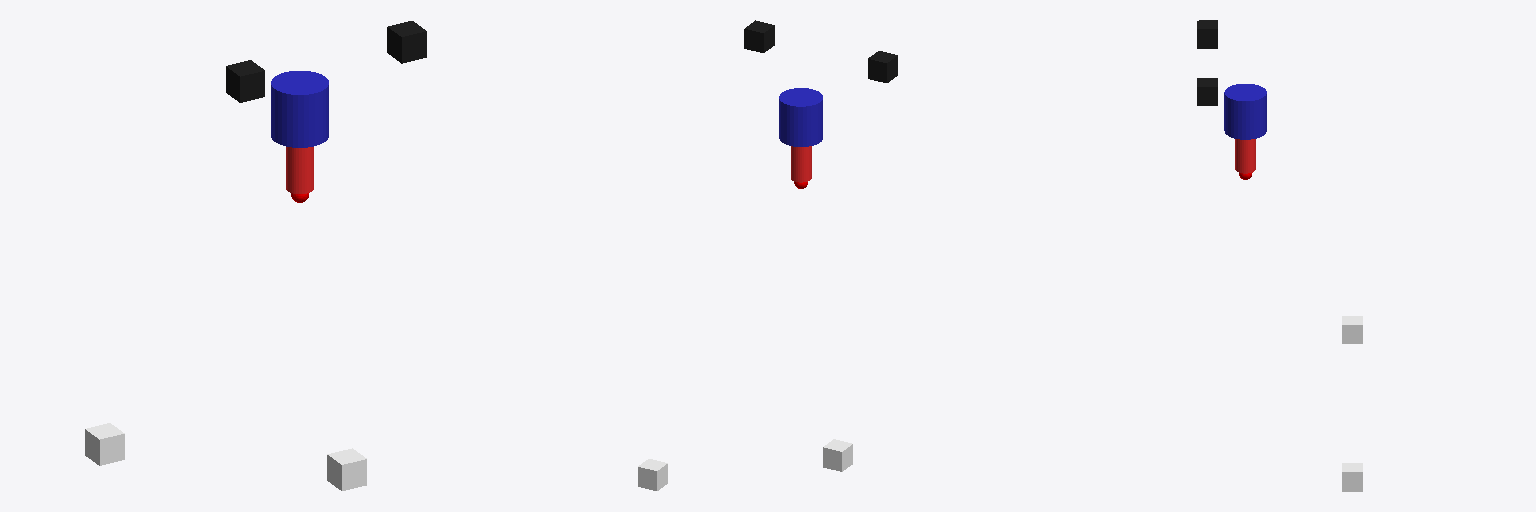
--- What the picture shows (computed from the rendered views, not written in the file) ---
The picture shows the robot from 3 angles, left to right: view 1: azimuth 30°, elevation 25°; view 2: azimuth 150°, elevation 25°; view 3: azimuth 270°, elevation 25°; orthographic projection.
Robot: Arm_Urdf — 18 links, 17 joints (6 revolute, 1 prismatic, 10 fixed); root link world; default pose: all joints at 0.
Links seen in each view (by area): view 1: pointer_base, camera_link_base_left, camera_link_base_right, camera_link_gripper_left, pointer_tip, camera_link_gripper_right; view 2: pointer_base, camera_link_gripper_left, camera_link_base_right, camera_link_gripper_right, camera_link_base_left, pointer_tip; view 3: pointer_base, pointer_tip, camera_link_base_left, camera_link_gripper_right, camera_link_base_right, camera_link_gripper_left.
Link boxes in pixels (x1=…): pointer_base: x1=271, y1=71, x2=328, y2=147; camera_link_base_left: x1=327, y1=448, x2=366, y2=490; camera_link_base_right: x1=85, y1=423, x2=124, y2=465; camera_link_gripper_left: x1=387, y1=21, x2=426, y2=63; pointer_tip: x1=286, y1=147, x2=313, y2=202; camera_link_gripper_right: x1=226, y1=60, x2=264, y2=102; pointer_base: x1=779, y1=88, x2=822, y2=146; camera_link_gripper_left: x1=744, y1=20, x2=774, y2=52; camera_link_base_right: x1=823, y1=439, x2=852, y2=471; camera_link_gripper_right: x1=868, y1=51, x2=897, y2=82; camera_link_base_left: x1=638, y1=459, x2=667, y2=490; pointer_tip: x1=791, y1=146, x2=811, y2=188; pointer_base: x1=1224, y1=84, x2=1266, y2=139; pointer_tip: x1=1235, y1=139, x2=1255, y2=179; camera_link_base_left: x1=1342, y1=463, x2=1362, y2=491; camera_link_gripper_right: x1=1197, y1=20, x2=1217, y2=48; camera_link_base_right: x1=1342, y1=316, x2=1362, y2=343; camera_link_gripper_left: x1=1197, y1=78, x2=1217, y2=105.
Size in the robot's own frame: 0.265 by 0.196 by 0.508 metres.
Meshes: 7 distinct files referenced, 0 mesh visuals loaded (none loaded); not drawn: 7 (reference not matched to a file when rendering).

URDF robot description (Arm_Urdf):
<?xml version="1.0" encoding="utf-8" ?>
<!-- This URDF was automatically created by SolidWorks to URDF Exporter! Originally created by Stephen Brawner ([email redacted]) 
     Commit Version: 1.6.0-4-g7f85cfe  Build Version: 1.6.7995.38578
     For more information, please see http://wiki.ros.org/sw_urdf_exporter -->
<robot name="Arm_Urdf">
    <material name="black">
        <color rgba="0.15 0.15 0.15 1.0"/>
    </material>
    <material name="red">
        <color rgba="0.8 0.2 0.2 1.0"/>
    </material>
    <link name="base_link">
        <inertial>
            <origin xyz="-0.0108454625152952 5.41174924359317E-05 0.006809784336333" rpy="0 0 0" />
            <mass value="0.77116648882986" />
            <inertia ixx="0.000698139677914449" ixy="-9.98098781596937E-09" ixz="-4.42589020292821E-09" iyy="0.000247085234791679" iyz="-7.75794099442475E-09" izz="0.000718421438540256" />
        </inertial>
        <visual>
            <origin xyz="0 0 0" rpy="0 0 0" />
            <geometry>
                <mesh filename="package://task2_bot/meshes/base_link.STL" />
            </geometry>
            <material name="">
                <color rgba="0.650980392156863 0.619607843137255 0.588235294117647 1" />
            </material>
        </visual>
        <collision>
            <origin xyz="0 0 0" rpy="0 0 0" />
            <geometry>
                <mesh filename="package://task2_bot/meshes/base_link.STL" />
            </geometry>
        </collision>
    </link>
    <link name="world" />
    <joint name="world_joint" type="fixed">
        <origin xyz="0 0 0.0" rpy="0 0 0" />
        <parent link="world" />
        <child link="base_link" />
    </joint>
    <link name="Link_1">
        <inertial>
            <origin xyz="0.00202559488051276 0.0292417340051791 0.0299779266003479" rpy="0 0 0" />
            <mass value="2.19576081627391" />
            <inertia ixx="0.00622314668686051" ixy="2.69943075030139E-08" ixz="-1.96744672740614E-07" iyy="0.00460468862088576" iyz="-6.43893757821027E-05" izz="0.00970799857789177" />
        </inertial>
        <visual>
            <origin xyz="0 0 0" rpy="0 0 0" />
            <geometry>
                <mesh filename="package://task2_bot/meshes/Link_1.STL" />
            </geometry>
            <material name="">
                <color rgba="0.529411764705882 0.549019607843137 0.549019607843137 1" />
            </material>
        </visual>
        <collision>
            <origin xyz="0 0 0" rpy="0 0 0" />
            <geometry>
                <mesh filename="package://task2_bot/meshes/Link_1.STL" />
            </geometry>
        </collision>
    </link>
    <joint name="Joint_1" type="revolute">
        <origin xyz="0 0 0.073" rpy="0 0 0" />
        <parent link="base_link" />
        <child link="Link_1" />
        <axis xyz="0 0 1" />
        <limit lower="-3.17" upper="3.17" effort="50" velocity="5" />
        <dynamics damping="0.5" friction="0.1"/>
    </joint>

    <!-- camera base left -->
    <joint name="camera_joint_base_left" type="fixed">
        <axis xyz="0 1 0"/>
        <origin rpy="0 0 -1.57" xyz="0.12 -0.15 0.02"/>
        <parent link="Link_1"/>
        <child link="camera_link_base_left"/>
    </joint>

    <link name="camera_link_base_left">
        <inertial>
            <mass value="1e-5"/>
            <origin rpy="0 0 0" xyz="0 -0.02 0.02"/>
            <inertia ixx="1e-6" ixy="0" ixz="0" iyy="1e-6" iyz="0" izz="1e-6"/>
        </inertial>
        <collision>
            <origin rpy="0 0 -1.570" xyz="0 0 0"/>
            <geometry>
                <box size="0.025 0.025 0.025"/>
            </geometry>
        </collision>
        <visual>
            <origin rpy="0 0 -1.570" xyz="0 0 0"/>
            <geometry>
                <box size="0.025 0.025 0.025"/>
            </geometry>
            <material name="black">
                <color rgba="1 1 1 1"/>
            </material>
        </visual>
    </link>

    <joint name="camera_optical_joint_base_left" type="fixed">
        <parent link="camera_link_base_left"/>
        <child link="camera_link_optical_base_left"/>
        <origin xyz="0 0 0" rpy="-1.5707963 0 -1.5707963"/>
    </joint>

    <link name="camera_link_optical_base_left"></link>

    <!-- camera base right -->
    <joint name="camera_base_joint_right" type="fixed">
        <axis xyz="0 1 0"/>
        <origin rpy="0 0 -1.57" xyz="-0.12 -0.15 0.1"/>
        <parent link="Link_1"/>
        <child link="camera_link_base_right"/>
    </joint>

    <link name="camera_link_base_right">
        <inertial>
            <mass value="1e-5"/>
            <origin rpy="0 0 0" xyz="0 -0.02 0.02"/>
            <inertia ixx="1e-6" ixy="0" ixz="0" iyy="1e-6" iyz="0" izz="1e-6"/>
        </inertial>
        <collision>
            <origin rpy="0 0 -1.570" xyz="0 0 0"/>
            <geometry>
                <box size="0.025 0.025 0.025"/>
            </geometry>
        </collision>
        <visual>
            <origin rpy="0 0 -1.570" xyz="0 0 0"/>
            <geometry>
                <box size="0.025 0.025 0.025"/>
            </geometry>
            <material name="black">
                <color rgba="1 1 1 1"/>
            </material>
        </visual>
    </link>

    <joint name="camera_optical_joint_base_right" type="fixed">
        <parent link="camera_link_base_right"/>
        <child link="camera_link_optical_base_right"/>
        <origin xyz="0 0 0" rpy="-1.5707963 0 -1.5707963"/>
    </joint>

    <link name="camera_link_optical_base_right"></link>

    <link name="Link_2">
        <inertial>
            <origin xyz="0.0039680486454326 0.217484463914853 0.0226240865668204" rpy="0 0 0" />
            <mass value="0.696616277349387" />
            <inertia ixx="0.00867448656134372" ixy="-1.47433814721146E-05" ixz="-2.58004719868412E-09" iyy="0.000403909974825226" iyz="4.87457749930191E-10" izz="0.00872331013959563" />
        </inertial>
        <visual>
            <origin xyz="0 0 0" rpy="0 0 0" />
            <geometry>
                <mesh filename="package://task2_bot/meshes/Link_2.STL" />
            </geometry>
            <material name="">
                <color rgba="0.898039215686275 0.917647058823529 0.929411764705882 1" />
            </material>
        </visual>

        <collision>
            <origin xyz="0 0 0" rpy="0 0 0" />
            <geometry>
                <mesh filename="package://task2_bot/meshes/Link_2.STL" />
            </geometry>
        </collision>
    </link>

    <joint name="Joint_2" type="revolute">
        <origin xyz="-0.0299999999999999 0.114999999999999 0.0450000000000004" rpy="1.5707963267949 0 1.5707963267949" />
        <parent link="Link_1" />
        <child link="Link_2" />
        <axis xyz="0 0 -1" />
        <limit lower="-1.570" upper="1.57" effort="50" velocity="5" />
        <dynamics damping="0.5" friction="0.1"/>
    </joint>
    <link name="Link_3">
        <inertial>
            <origin xyz="0.0159437073865258 0.0399778044221051 0.000165930315254696" rpy="0 0 0" />
            <mass value="0.504770554183686" />
            <inertia ixx="0.000217244480297463" ixy="-3.21837262846156E-05" ixz="1.05210946108765E-18" iyy="0.00156585111098331" iyz="-2.22489334296148E-07" izz="0.00165843696768256" />
        </inertial>
        <visual>
            <origin xyz="0 0 0" rpy="0 0 0" />
            <geometry>
                <mesh filename="package://task2_bot/meshes/Link_3.STL" />
            </geometry>
            <material name="">
                <color rgba="0.898039215686275 0.917647058823529 0.929411764705882 1" />
            </material>
        </visual>
        <collision>
            <origin xyz="0 0 0" rpy="0 0 0" />
            <geometry>
                <mesh filename="package://task2_bot/meshes/Link_3.STL" />
            </geometry>
        </collision>
    </link>
    <joint name="Joint_3" type="revolute">
        <origin xyz="0 0.45 0.0301042347134805" rpy="0 0 0" />
        <parent link="Link_2" />
        <child link="Link_3" />
        <axis xyz="0 0 -1" />
        <limit lower="-1.00" upper="1.00" effort="50" velocity="5" />
        <dynamics damping="0.5" friction="0.10"/>
    </joint>
    <link name="Link_4">
        <inertial>
            <origin xyz="0.00264954149583032 0.00172553243144247 -0.256832165659789" rpy="0 0 0" />
            <mass value="0.739327182415655" />
            <inertia ixx="0.00148243608862922" ixy="-2.48364112345643E-07" ixz="-1.03283742873345E-07" iyy="0.00143272022403598" iyz="5.43371774425014E-06" izz="0.000309171282333902" />
        </inertial>
        <visual>
            <origin xyz="0 0 0" rpy="0 0 0" />
            <geometry>
                <mesh filename="package://task2_bot/meshes/Link_4.STL" />
            </geometry>
            <material name="">
                <color rgba="0.898039215686275 0.917647058823529 0.929411764705882 1" />
            </material>
        </visual>
        <collision>
            <origin xyz="0 0 0" rpy="0 0 0" />
            <geometry>
                <mesh filename="package://task2_bot/meshes/Link_4.STL" />
            </geometry>
        </collision>
    </link>
    <joint name="Joint_4" type="revolute">
        <origin xyz="0.0424999999995649 0.0399572355492206 0.000401106428108807" rpy="0 1.5707963267949 0" />
        <parent link="Link_3" />
        <child link="Link_4" />
        <axis xyz="0 0 1" />
        <limit lower="-3.17" upper="3.17" effort="50" velocity="5" />
        <dynamics damping="0.5" friction="0.1"/>
    </joint>
    <link name="Link_5">
        <inertial>
            <origin xyz="-3.16885406803635E-13 -0.00981221204232474 0.00224881068265584" rpy="0 0 0" />
            <mass value="0.0763957117756357" />
            <inertia ixx="3.83083473961502E-05" ixy="3.17560849313193E-16" ixz="2.01751281333396E-17" iyy="4.00747073118559E-05" iyz="-4.08795655667539E-17" izz="2.28558461666204E-05" />
        </inertial>
        <visual>
            <origin xyz="0 0 0" rpy="0 0 0" />
            <geometry>
                <mesh filename="package://task2_bot/meshes/Link_5.STL" />
            </geometry>
            <material name="">
                <color rgba="0.898039215686275 0.917647058823529 0.929411764705882 1" />
            </material>
        </visual>
        <collision>
            <origin xyz="0 0 0" rpy="0 0 0" />
            <geometry>
                <mesh filename="package://task2_bot/meshes/Link_5.STL" />
            </geometry>
            <surface>
                <contact>
                    <ode>
                        <kp>1e6</kp>
                        <kd>1</kd>
                    </ode>
                </contact>
                <friction>
                    <ode>
                        <mu>1.0</mu>                        <!-- Static friction coefficient -->
                        <mu2>1.0</mu2>                        <!-- Sliding friction coefficient -->
                    </ode>
                </friction>
            </surface>
        </collision>
    </link>
    <joint name="Joint_5" type="revolute">
        <origin xyz="-0.00649999999995384 0 -0.383499999999573" rpy="0 1.5707963267949 0" />
        <parent link="Link_4" />
        <child link="Link_5" />
        <axis xyz="0 0 1" />
        <limit lower="-0.065" upper="3.17" effort="50" velocity="5" />
        <dynamics damping="0.5" friction="0.10"/>
    </joint>
    <link name="Link_6">
        <inertial>
            <origin xyz="0.0135613456334422 -0.0265420912928073 0.0301408683365089" rpy="0 0 0" />
            <mass value="0.252745339929401" />
            <inertia ixx="0.000195067050160143" ixy="2.5230798194637E-05" ixz="6.2223463246536E-05" iyy="0.000903429764130728" iyz="-1.48620728173967E-05" izz="0.000993241239460536" />
        </inertial>
        <visual>
            <origin xyz="0 0 0" rpy="0 0 0" />
            <geometry>
                <mesh filename="package://task2_bot/meshes/Link_6.STL" />
            </geometry>
            <material name="">
                <color rgba="0.898039215686275 0.917647058823529 0.929411764705882 1" />
            </material>
        </visual>
        <collision>
            <origin xyz="0 0 0" rpy="0 0 0" />
            <geometry>
                <mesh filename="package://task2_bot/meshes/Link_6.STL" />
            </geometry>
            <surface>
                <contact>
                    <ode>
                        <kp>1e6</kp>
                        <kd>1</kd>
                    </ode>
                </contact>
                <friction>
                    <ode>
                        <mu>1.0</mu>                        <!-- Static friction coefficient -->
                        <mu2>1.0</mu2>                        <!-- Sliding friction coefficient -->
                    </ode>
                </friction>
            </surface>
        </collision>
    </link>
    <joint name="Joint_6" type="revolute">
        <origin xyz="0 -0.0199999999999119 0.00650441096988074" rpy="1.5707963267949 -1.5707963267949 0" />
        <parent link="Link_5" />
        <child link="Link_6" />
        <axis xyz="0 0 1" />
        <limit lower="-3.17" upper="3.17" effort="50" velocity="5" />
        <dynamics damping="0.5" friction="0.10"/>
    </joint>

    <!-- camera gripper left (kept as requested) -->
    <joint name="camera_joint_gripper_1" type="fixed">
        <axis xyz="0 1 0"/>
        <origin rpy="0 -1.57 1.57" xyz="-0.08 -0.095 0.012"/>
        <parent link="Link_6"/>
        <child link="camera_link_gripper_left"/>
    </joint>

    <link name="camera_link_gripper_left">
        <inertial>
            <mass value="1e-5"/>
            <origin rpy="0 0 0" xyz="-0.08 -0.095 0.012"/>
            <inertia ixx="1e-6" ixy="0" ixz="0" iyy="1e-6" iyz="0" izz="1e-6"/>
        </inertial>
        <collision>
            <origin rpy="0 0 0" xyz="0 0 0"/>
            <geometry>
                <box size="0.025 0.025 0.025"/>
            </geometry>
        </collision>
        <visual>
            <origin rpy="0 0 0" xyz="0 0 0"/>
            <geometry>
                <box size="0.025 0.025 0.025"/>
            </geometry>
            <material name="black"/>
        </visual>
    </link>

    <joint name="camera_optical_joint_gripper_1" type="fixed">
        <parent link="camera_link_gripper_left"/>
        <child link="camera_link_optical_gripper_1"/>
        <origin xyz="0 0 0" rpy="-1.5707963 0 -1.5707963"/>
    </joint>

    <link name="camera_link_optical_gripper_1"></link>

    <!-- camera gripper right (kept as requested) -->
    <joint name="camera_joint_gripper_2" type="fixed">
        <axis xyz="0 1 0"/>
        <origin rpy="0 -1.57 1.57" xyz="0.08 -0.095 0.012"/>
        <parent link="Link_6"/>
        <child link="camera_link_gripper_right"/>
    </joint>

    <link name="camera_link_gripper_right">
        <inertial>
            <mass value="1e-5"/>
            <origin rpy="0 0 0" xyz="0.08 -0.095 -0.012"/>
            <inertia ixx="1e-6" ixy="0" ixz="0" iyy="1e-6" iyz="0" izz="1e-6"/>
        </inertial>
        <collision>
            <origin rpy="0 0 0" xyz="0 0 0"/>
            <geometry>
                <box size="0.025 0.025 0.025"/>
            </geometry>
        </collision>
        <visual>
            <origin rpy="0 0 0" xyz="0 0 0"/>
            <geometry>
                <box size="0.025 0.025 0.025"/>
            </geometry>
            <material name="black"/>
        </visual>
    </link>

    <joint name="camera_optical_joint_gripper_2" type="fixed">
        <parent link="camera_link_gripper_right"/>
        <child link="camera_link_optical_gripper_2"/>
        <origin xyz="0 0 0" rpy="-1.5707963 0 -1.5707963"/>
    </joint>

    <link name="camera_link_optical_gripper_2"></link>

    <!-- POINTER MECHANISM - Replaces the gripper -->
    <!-- Main pointer body -->
    <link name="pointer_base">
        <inertial>
            <origin xyz="0 0 0.025" rpy="0 0 0" />
            <mass value="0.1" />
            <inertia ixx="1e-4" ixy="0" ixz="0" iyy="1e-4" iyz="0" izz="1e-4" />
        </inertial>
        <visual>
            <origin xyz="0 0 0.025" rpy="0 0 0" />
            <geometry>
                <cylinder radius="0.025" length="0.05"/>
            </geometry>
            <material name="">
                <color rgba="0.2 0.2 0.8 1" />
            </material>
        </visual>
        <collision>
            <origin xyz="0 0 0.025" rpy="0 0 0" />
            <geometry>
                <cylinder radius="0.025" length="0.05"/>
            </geometry>
            <surface>
                <contact>
                    <ode>
                        <kp>1e6</kp>
                        <kd>1</kd>
                    </ode>
                </contact>
                <friction>
                    <ode>
                        <mu>1.0</mu>
                        <mu2>1.0</mu2>
                    </ode>
                </friction>
            </surface>
        </collision>
    </link>

    <!-- Extendable pointer tip -->
    <link name="pointer_tip">
        <inertial>
            <origin xyz="0 0 0.04" rpy="0 0 0" />
            <mass value="0.03" />
            <inertia ixx="2e-5" ixy="0" ixz="0" iyy="2e-5" iyz="0" izz="1e-6" />
        </inertial>
        <visual>
            <origin xyz="0 0 0.025" rpy="0 0 0" />
            <geometry>
                <cylinder radius="0.012" length="0.05"/>
            </geometry>
            <material name="">
                <color rgba="1.0 0.2 0.2 1" />
            </material>
        </visual>
        <visual>
            <origin xyz="0 0 0.055" rpy="0 0 0" />
            <geometry>
                <sphere radius="0.008"/>
            </geometry>
            <material name="">
                <color rgba="1.0 0.0 0.0 1" />
            </material>
        </visual>
        <collision>
            <origin xyz="0 0 0.025" rpy="0 0 0" />
            <geometry>
                <cylinder radius="0.012" length="0.05"/>
            </geometry>
            <surface>
                <contact>
                    <ode>
                        <kp>1e7</kp>
                        <kd>10</kd>
                    </ode>
                </contact>
                <friction>
                    <ode>
                        <mu>0.8</mu>
                        <mu2>0.8</mu2>
                    </ode>
                </friction>
            </surface>
        </collision>
        <collision>
            <origin xyz="0 0 0.055" rpy="0 0 0" />
            <geometry>
                <sphere radius="0.008"/>
            </geometry>
            <surface>
                <contact>
                    <ode>
                        <kp>1e7</kp>
                        <kd>10</kd>
                    </ode>
                </contact>
                <friction>
                    <ode>
                        <mu>0.8</mu>
                        <mu2>0.8</mu2>
                    </ode>
                </friction>
            </surface>
        </collision>
    </link>

    <!-- Joint to attach pointer base to Link_6 -->
    <joint name="pointer_base_joint" type="fixed">
        <origin xyz="0 -0.05 0.05" rpy="0 0 0" />
        <parent link="Link_6" />
        <child link="pointer_base" />
    </joint>

    <!-- Prismatic joint for pointer extension/retraction -->
    <joint name="pointer_extend_joint" type="prismatic">
        <origin xyz="0 0 0.05" rpy="0 0 0" />
        <parent link="pointer_base" />
        <child link="pointer_tip" />
        <axis xyz="0 0 1" />
        <limit lower="0" upper="0.05" effort="50" velocity="5" />
        <dynamics damping="0.5" friction="0.1" />
    </joint>

    <!-- Transmissions for main joints -->
    <transmission name="trans_Joint_1">
        <type>transmission_interface/SimpleTransmission</type>
        <joint name="Joint_1">
            <hardwareInterface>hardware_interface/PositionJointInterface</hardwareInterface>
        </joint>
        <actuator name="Link_1_motor">
            <hardwareInterface>hardware_interface/PositionJointInterface</hardwareInterface>
            <mechanicalReduction>1</mechanicalReduction>
        </actuator>
    </transmission>
    <transmission name="trans_Joint_2">
        <type>transmission_interface/SimpleTransmission</type>
        <joint name="Joint_2">
            <hardwareInterface>hardware_interface/PositionJointInterface</hardwareInterface>
        </joint>
        <actuator name="Link_2_motor">
            <hardwareInterface>hardware_interface/PositionJointInterface</hardwareInterface>
            <mechanicalReduction>1</mechanicalReduction>
        </actuator>
    </transmission>
    <transmission name="trans_Joint_3">
        <type>transmission_interface/SimpleTransmission</type>
        <joint name="Joint_3">
            <hardwareInterface>hardware_interface/PositionJointInterface</hardwareInterface>
        </joint>
        <actuator name="Link_3_motor">
            <hardwareInterface>hardware_interface/PositionJointInterface</hardwareInterface>
            <mechanicalReduction>1</mechanicalReduction>
        </actuator>
    </transmission>
    <transmission name="trans_Joint_4">
        <type>transmission_interface/SimpleTransmission</type>
        <joint name="Joint_4">
            <hardwareInterface>hardware_interface/PositionJointInterface</hardwareInterface>
        </joint>
        <actuator name="Link_4_motor">
            <hardwareInterface>hardware_interface/PositionJointInterface</hardwareInterface>
            <mechanicalReduction>1</mechanicalReduction>
        </actuator>
    </transmission>
    <transmission name="trans_Joint_5">
        <type>transmission_interface/SimpleTransmission</type>
        <joint name="Joint_5">
            <hardwareInterface>hardware_interface/PositionJointInterface</hardwareInterface>
        </joint>
        <actuator name="Link_5_motor">
            <hardwareInterface>hardware_interface/PositionJointInterface</hardwareInterface>
            <mechanicalReduction>1</mechanicalReduction>
        </actuator>
    </transmission>
    <transmission name="trans_Joint_6">
        <type>transmission_interface/SimpleTransmission</type>
        <joint name="Joint_6">
            <hardwareInterface>hardware_interface/PositionJointInterface</hardwareInterface>
        </joint>
        <actuator name="Link_6_motor">
            <hardwareInterface>hardware_interface/PositionJointInterface</hardwareInterface>
            <mechanicalReduction>1</mechanicalReduction>
        </actuator>
    </transmission>

    <!-- Transmission for pointer extension -->
    <transmission name="trans_pointer_extend">
        <type>transmission_interface/SimpleTransmission</type>
        <joint name="pointer_extend_joint">
            <hardwareInterface>hardware_interface/PositionJointInterface</hardwareInterface>
        </joint>
        <actuator name="pointer_motor">
            <hardwareInterface>hardware_interface/PositionJointInterface</hardwareInterface>
            <mechanicalReduction>1</mechanicalReduction>
        </actuator>
    </transmission>

    <gazebo>
        <plugin name="gazebo_ros_control" filename="libgazebo_ros_control.so">
            <robotNamespace>/</robotNamespace>
        </plugin>
    </gazebo>

    <!-- Camera sensors (all kept as requested) -->
    <gazebo reference="camera_link_base_left">
        <sensor type="camera" name="camera_base">
            <visualize>true</visualize>
            <update_rate>30.0</update_rate>
            <camera name="head">
                <horizontal_fov>1.3962634</horizontal_fov>
                <image>
                    <width>800</width>
                    <height>800</height>
                    <format>R8G8B8</format>
                </image>
                <clip>
                    <near>0.02</near>
                    <far>300</far>
                </clip>
                <noise>
                    <type>gaussian</type>
                    <!-- Noise is sampled independently per pixel on each frame.
                That pixel's noise value is added to each of its color
                channels, which at that point lie in the range [0,1]. -->
                    <mean>0.0</mean>
                    <stddev>0.007</stddev>
                </noise>
            </camera>
            <plugin name="camera_controller" filename="libgazebo_ros_camera.so">
                <alwaysOn>true</alwaysOn>
                <updateRate>0.0</updateRate>
                <cameraName>camera_base_left</cameraName>
                <imageTopicName>image_raw</imageTopicName>
                <cameraInfoTopicName>camera_info</cameraInfoTopicName>
                <frameName>camera_link_base_left</frameName>
                <hackBaseline>0.07</hackBaseline>
                <distortionK1>0.0</distortionK1>
                <distortionK2>0.0</distortionK2>
                <distortionK3>0.0</distortionK3>
                <distortionT1>0.0</distortionT1>
                <distortionT2>0.0</distortionT2>
            </plugin>
        </sensor>
    </gazebo>

    <gazebo reference="camera_link_base_right">
        <sensor type="camera" name="camera_base_2">
            <visualize>true</visualize>
            <update_rate>30.0</update_rate>
            <camera name="head">
                <horizontal_fov>1.3962634</horizontal_fov>
                <image>
                    <width>800</width>
                    <height>800</height>
                    <format>R8G8B8</format>
                </image>
                <clip>
                    <near>0.02</near>
                    <far>300</far>
                </clip>
                <noise>
                    <type>gaussian</type>
                    <!-- Noise is sampled independently per pixel on each frame.
                That pixel's noise value is added to each of its color
                channels, which at that point lie in the range [0,1]. -->
                    <mean>0.0</mean>
                    <stddev>0.007</stddev>
                </noise>
            </camera>
            <plugin name="camera_controller" filename="libgazebo_ros_camera.so">
                <alwaysOn>true</alwaysOn>
                <updateRate>0.0</updateRate>
                <cameraName>camera_base_right</cameraName>
                <imageTopicName>image_raw</imageTopicName>
                <cameraInfoTopicName>camera_info</cameraInfoTopicName>
                <frameName>camera_base_right</frameName>
                <hackBaseline>0.07</hackBaseline>
                <distortionK1>0.0</distortionK1>
                <distortionK2>0.0</distortionK2>
                <distortionK3>0.0</distortionK3>
                <distortionT1>0.0</distortionT1>
                <distortionT2>0.0</distortionT2>
            </plugin>
        </sensor>
    </gazebo>

    <gazebo reference="camera_link_gripper_left">
        <sensor type="camera" name="camera_gripper_1">
            <visualize>true</visualize>
            <update_rate>30.0</update_rate>
            <camera name="head">
                <horizontal_fov>1.3962634</horizontal_fov>
                <image>
                    <width>800</width>
                    <height>800</height>
                    <format>R8G8B8</format>
                </image>
                <clip>
                    <near>0.02</near>
                    <far>300</far>
                </clip>
                <noise>
                    <type>gaussian</type>
                    <!-- Noise is sampled independently per pixel on each frame.
                That pixel's noise value is added to each of its color
                channels, which at that point lie in the range [0,1]. -->
                    <mean>0.0</mean>
                    <stddev>0.007</stddev>
                </noise>
            </camera>
            <plugin name="camera_controller" filename="libgazebo_ros_camera.so">
                <alwaysOn>true</alwaysOn>
                <updateRate>0.0</updateRate>
                <cameraName>camera_gripper_left</cameraName>
                <imageTopicName>image_raw</imageTopicName>
                <cameraInfoTopicName>camera_info</cameraInfoTopicName>
                <frameName>camera_link_gripper_left</frameName>
                <hackBaseline>0.07</hackBaseline>
                <distortionK1>0.0</distortionK1>
                <distortionK2>0.0</distortionK2>
                <distortionK3>0.0</distortionK3>
                <distortionT1>0.0</distortionT1>
                <distortionT2>0.0</distortionT2>
            </plugin>
        </sensor>
    </gazebo>

    <gazebo reference="camera_link_gripper_right">
        <sensor type="camera" name="camera_gripper_2">
            <visualize>true</visualize>
            <update_rate>30.0</update_rate>
            <camera name="head">
                <horizontal_fov>1.3962634</horizontal_fov>
                <image>
                    <width>800</width>
                    <height>800</height>
                    <format>R8G8B8</format>
                </image>
                <clip>
                    <near>0.02</near>
                    <far>300</far>
                </clip>
                <noise>
                    <type>gaussian</type>
                    <!-- Noise is sampled independently per pixel on each frame.
                That pixel's noise value is added to each of its color
                channels, which at that point lie in the range [0,1]. -->
                    <mean>0.0</mean>
                    <stddev>0.007</stddev>
                </noise>
            </camera>
            <plugin name="camera_controller" filename="libgazebo_ros_camera.so">
                <alwaysOn>true</alwaysOn>
                <updateRate>0.0</updateRate>
                <cameraName>camera_gripper_right</cameraName>
                <imageTopicName>image_raw</imageTopicName>
                <cameraInfoTopicName>camera_info</cameraInfoTopicName>
                <frameName>camera_link_gripper_right</frameName>
                <hackBaseline>0.07</hackBaseline>
                <distortionK1>0.0</distortionK1>
                <distortionK2>0.0</distortionK2>
                <distortionK3>0.0</distortionK3>
                <distortionT1>0.0</distortionT1>
                <distortionT2>0.0</distortionT2>
            </plugin>
        </sensor>
    </gazebo>

</robot>
